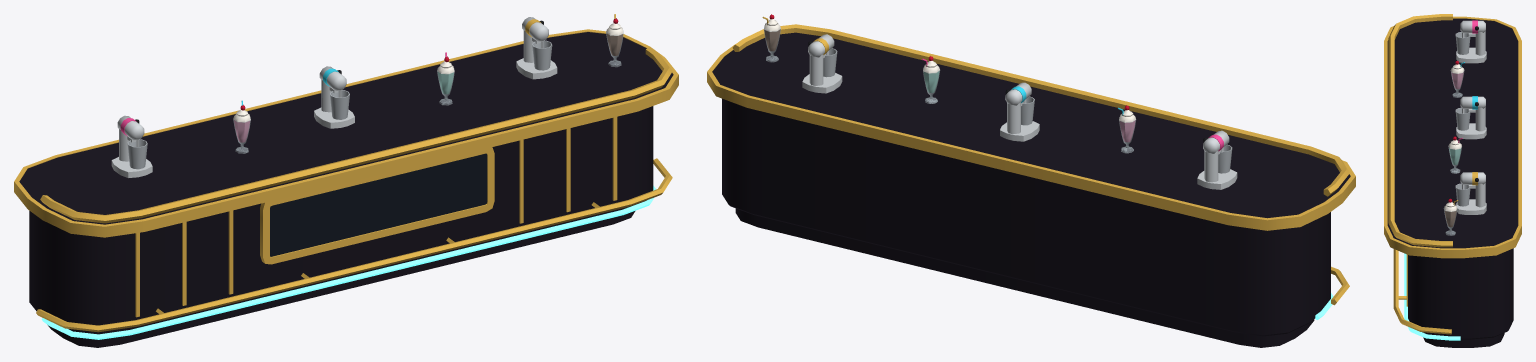
The model's file is Lobby_ShakeBar.fbx.
3 renders of one model, left to right at view 1: azimuth 30°, elevation 25°; view 2: azimuth 150°, elevation 25°; view 3: azimuth 270°, elevation 25°, orthographic. The views are drawn at different scales.
Parts seen in each view (by area): view 1: Lacquer, Gold, Screen, Underglow, Mixers, Bits2, Glasses, Bits6; view 2: Lacquer, Gold, Mixers, Glasses, Bits2, Bits6; view 3: Lacquer, Gold, Mixers, Bits2, Glasses, Underglow, Bits6, Bits5, Bits9, Bits8.
Boxes of the visible parts, <box> form: Lacquer: <box>19,32,673,347</box>; Gold: <box>14,19,678,332</box>; Screen: <box>270,153,487,256</box>; Underglow: <box>41,185,656,339</box>; Mixers: <box>111,17,557,177</box>; Bits2: <box>127,40,552,169</box>; Glasses: <box>233,30,623,153</box>; Bits6: <box>233,23,623,122</box>; Lacquer: <box>712,32,1350,347</box>; Gold: <box>707,24,1355,305</box>; Mixers: <box>802,34,1237,189</box>; Glasses: <box>763,27,1136,153</box>; Bits2: <box>823,48,1232,173</box>; Bits6: <box>764,19,1135,122</box>; Lacquer: <box>1387,18,1518,347</box>; Gold: <box>1384,14,1521,334</box>; Mixers: <box>1456,20,1486,214</box>; Bits2: <box>1455,32,1470,206</box>; Glasses: <box>1443,70,1464,235</box>; Underglow: <box>1404,253,1460,340</box>; Bits6: <box>1444,64,1464,211</box>; Bits5: <box>1451,72,1463,89</box>; Bits9: <box>1444,210,1456,227</box>; Bits8: <box>1449,148,1461,164</box>.
Size of the model in its own units: 1202 by 349 by 300.
